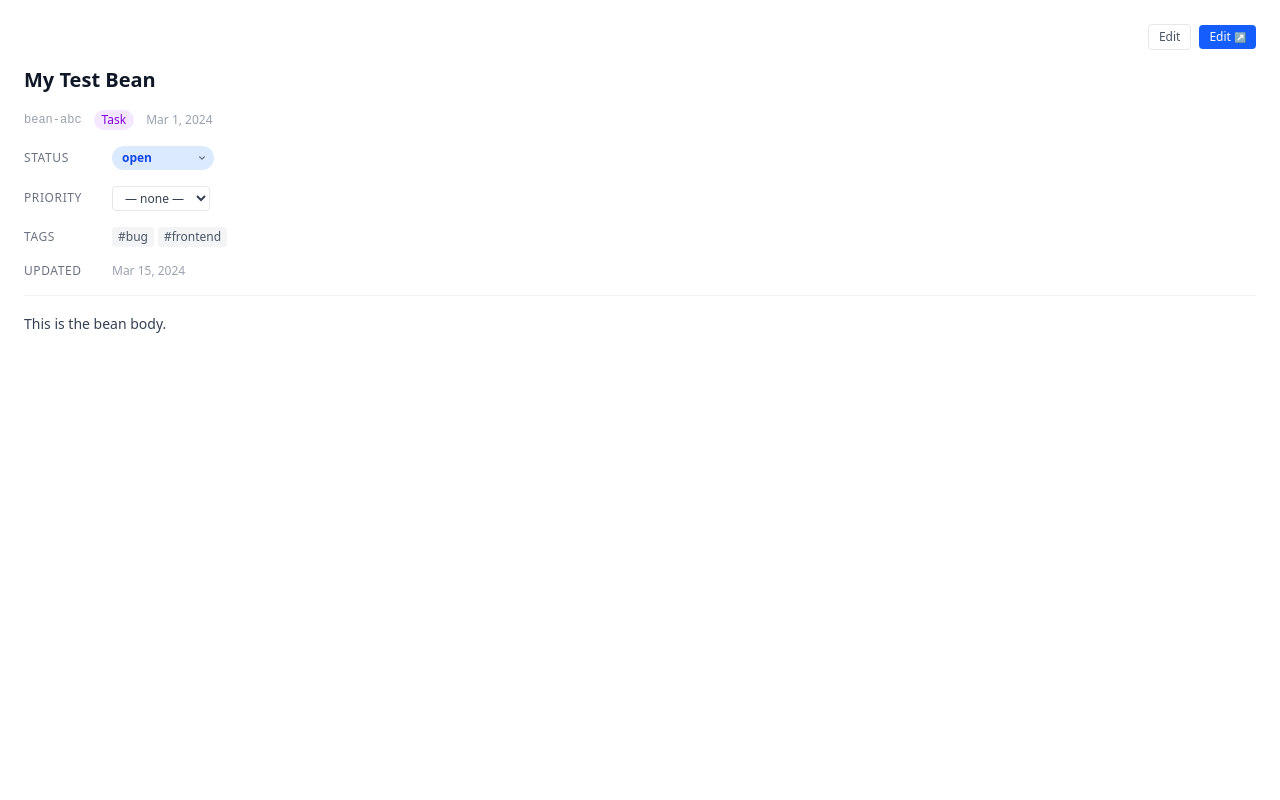
BeanDetail › edit button switches to edit mode
Click the button "Edit" at (1170, 37), box [1148,24,1191,50]
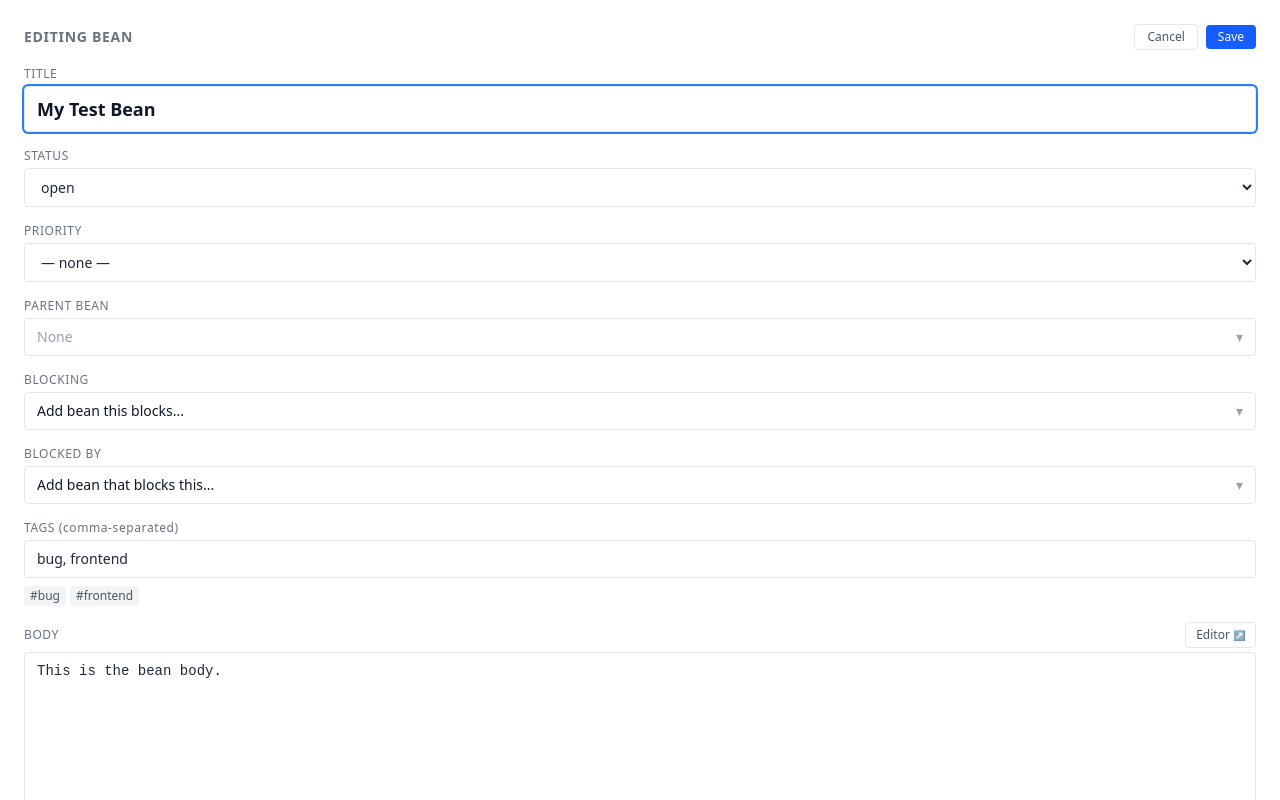
Now the heading "Editing Bean" is shown, box [24,27,133,47]
